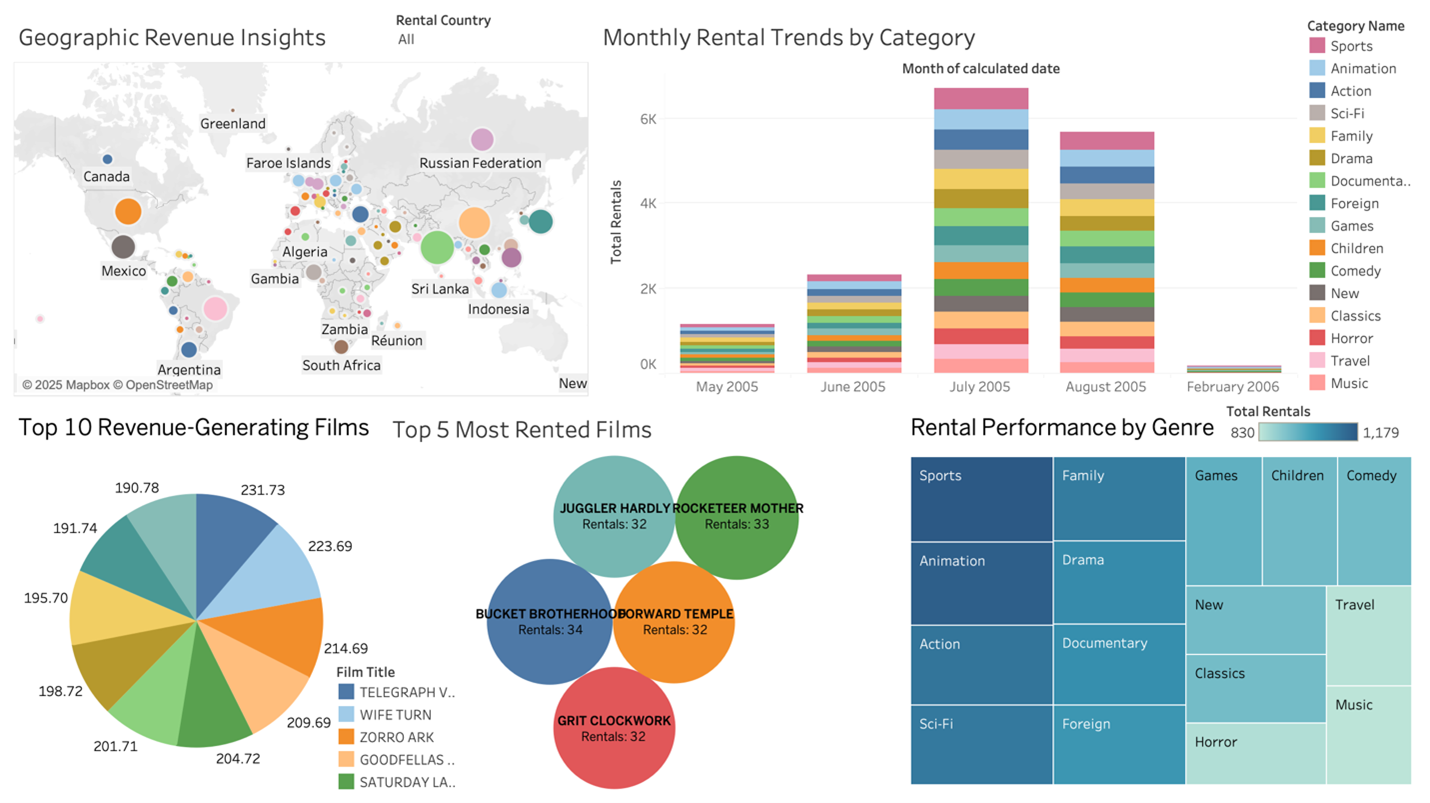

The page's visual inventory and layout, read from the dashboard file:
{"tool":"tableau","page":{"name":"Dash","canvas":[1000,1000],"units":"permille","ordinal":0},"visuals":[{"type":"worksheet","title":"Geographic Revenue Insights","mark":"Circle","box":[6.3,11.2,408.7,488.8]},{"type":"filter","title":"Geographic Revenue Insights","param":"[federated.04dd5l81dseeu31h8srfk02n5iop].[none:rental_country:nk]","box":[276.7,11.2,132.1,72.8]},{"type":"worksheet","title":"Monthly Rental Trends by Category","mark":"Bar","rows":["total_rentals"],"cols":["Calculation_3718706708327944192"],"box":[415,11.2,495.3,488.8]},{"type":"legend","title":"Monthly Rental Trends by Category","param":"[federated.04dd5l81dseeu31h8srfk02n5iop].[none:category_name:nk]","box":[910.3,11.2,83.4,488.8]},{"type":"legend","title":"Rental Performance by Genre","param":"[federated.04dd5l81dseeu31h8srfk02n5iop].[sum:total_rentals:qk]","box":[857.7,495.1,125,61.7]},{"type":"worksheet","title":"TOP 10 Revenue","mark":"Pie","box":[6.3,500,261.7,488.8]},{"type":"worksheet","title":"Top 5 Most Rented Films","mark":"Circle","box":[268,500,362.8,488.8]},{"type":"worksheet","title":"Rental Performance by Genre","mark":"Automatic","box":[630.8,500,362.9,488.8]},{"type":"legend","title":"TOP 10 Revenue","param":"[federated.04dd5l81dseeu31h8srfk02n5iop].[none:title:nk]","box":[234.3,822.1,86.5,163.9]}]}

Visuals, with their boxes on the dashboard's canvas, which has no fixed pixel size, in thousandths of its width and height (x1, y1, x2, y2). These are canvas units, not pixel positions in the 1430x803 screenshot, which may show the page scaled, cropped or inside an application window:
"Geographic Revenue Insights" worksheet (Circle marks): <box>6,11,415,500</box>
"Geographic Revenue Insights" filter: <box>277,11,409,84</box>
"Monthly Rental Trends by Category" worksheet (Bar marks): <box>415,11,910,500</box>
"Monthly Rental Trends by Category" legend: <box>910,11,994,500</box>
"Rental Performance by Genre" legend: <box>858,495,983,557</box>
"TOP 10 Revenue" worksheet (Pie marks): <box>6,500,268,989</box>
"Top 5 Most Rented Films" worksheet (Circle marks): <box>268,500,631,989</box>
"Rental Performance by Genre" worksheet: <box>631,500,994,989</box>
"TOP 10 Revenue" legend: <box>234,822,321,986</box>
